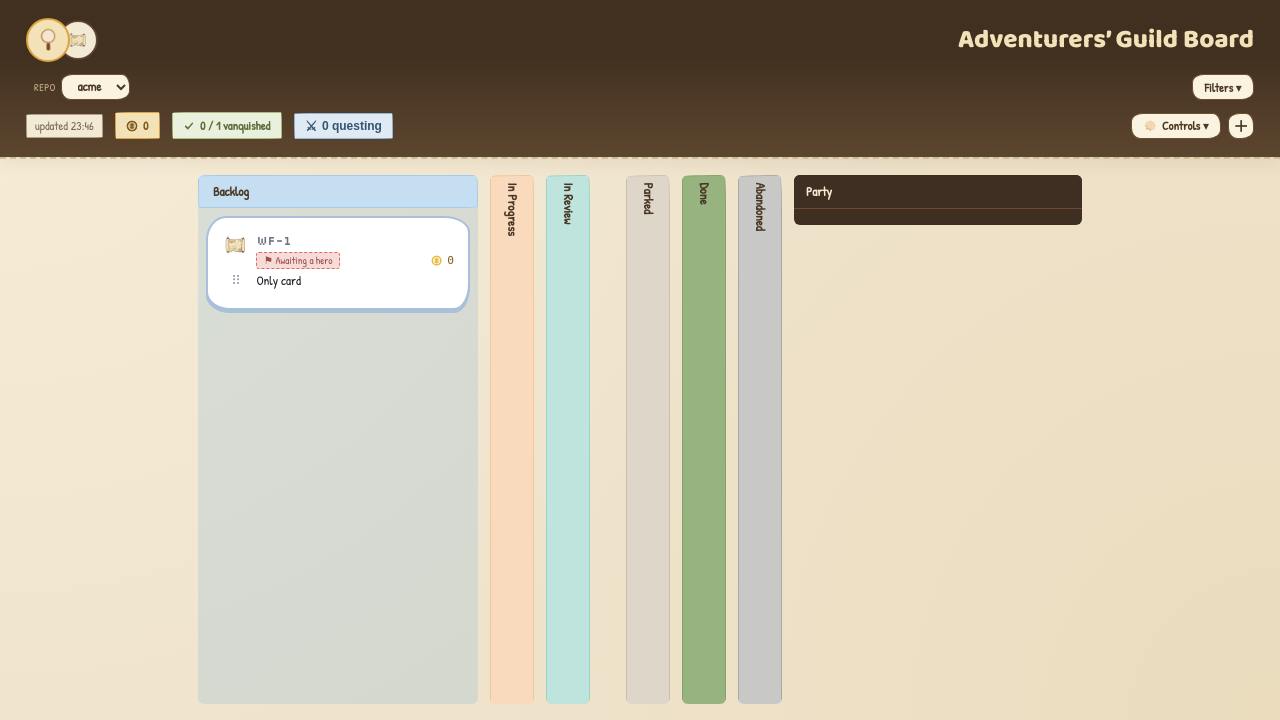
Scenario: <App/> — task 6: filter bar wiring (WF-059/060/061) › WF-095: a search that hides every card says so, and switching repo clears the filters
Check: the dropdown labelled "repo" is shown, box [61,74,130,100]
Check: the button "Only card" is shown, box [256,272,454,289]
Click the button "Filters ▾": (1223, 87) [1192,74,1254,100]
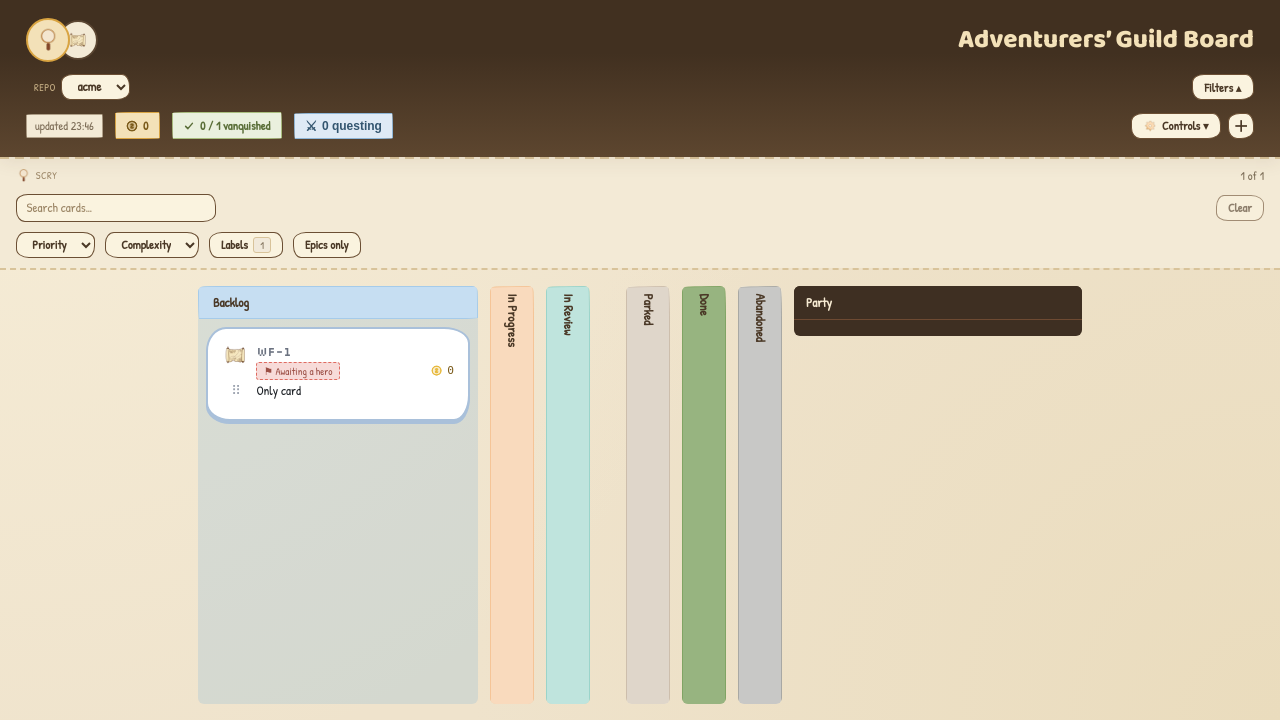
In the search field labelled "Search": (116, 208) [16,194,216,222], type "zzz"
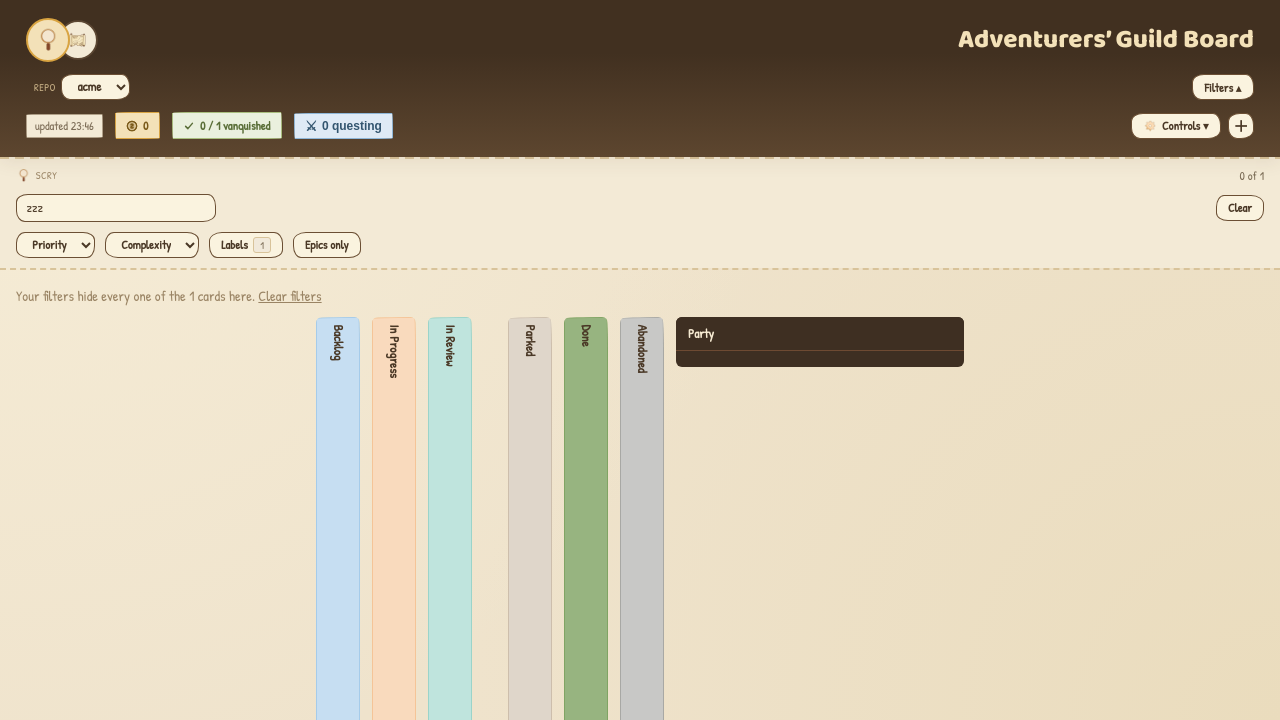
Check: the button "Only card" is gone
Select "beta" in the dropdown labelled "repo": (96, 87) [61,74,130,100]
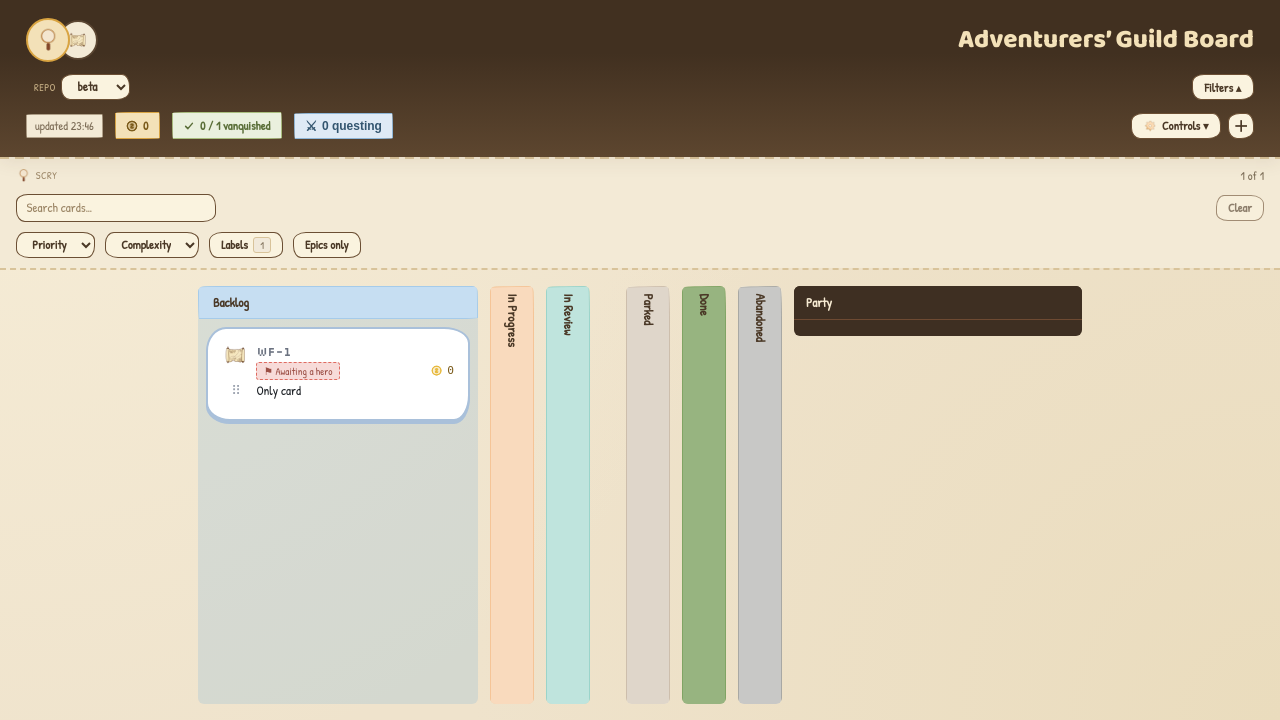
Check: the search field labelled "Search" is empty
Check: the button "Only card" is shown, box [256,382,454,399]
Check: the text "hide every one of the 1 cards" is gone
In the search field labelled "Search": (116, 208) [16,194,216,222], type "zzz"
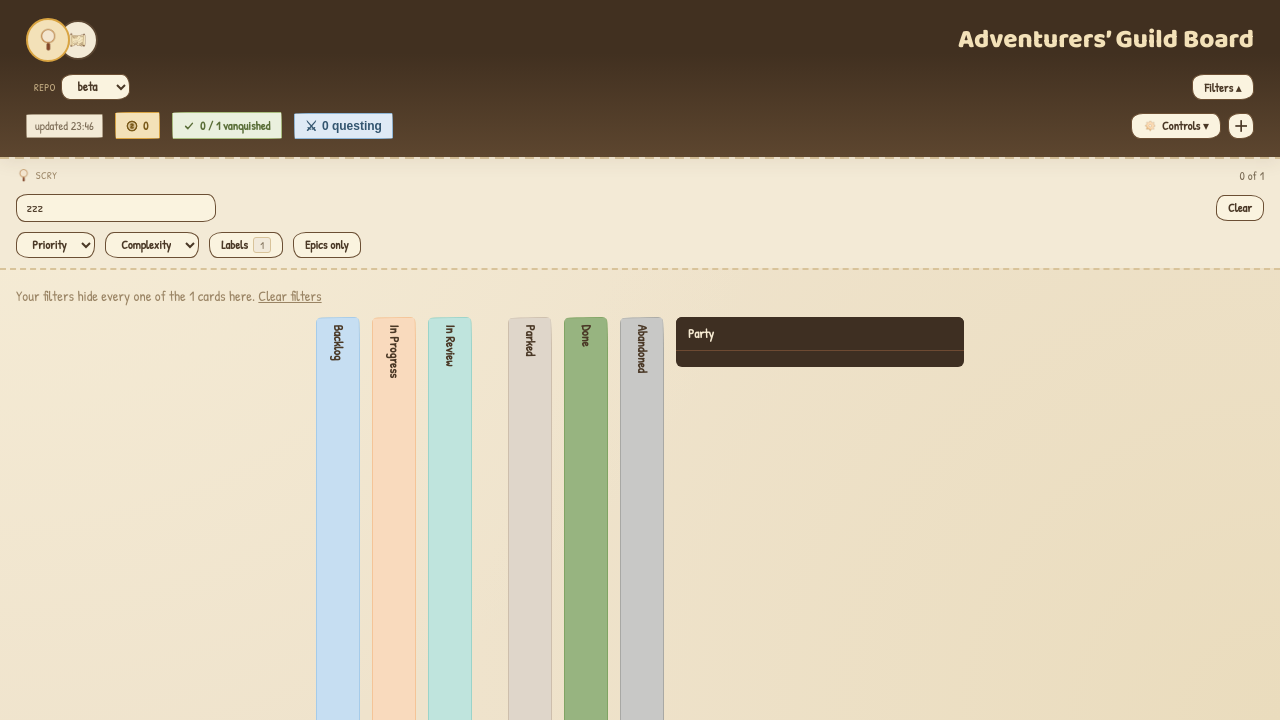
Click the button "Clear filters": (290, 295) [258,286,322,305]
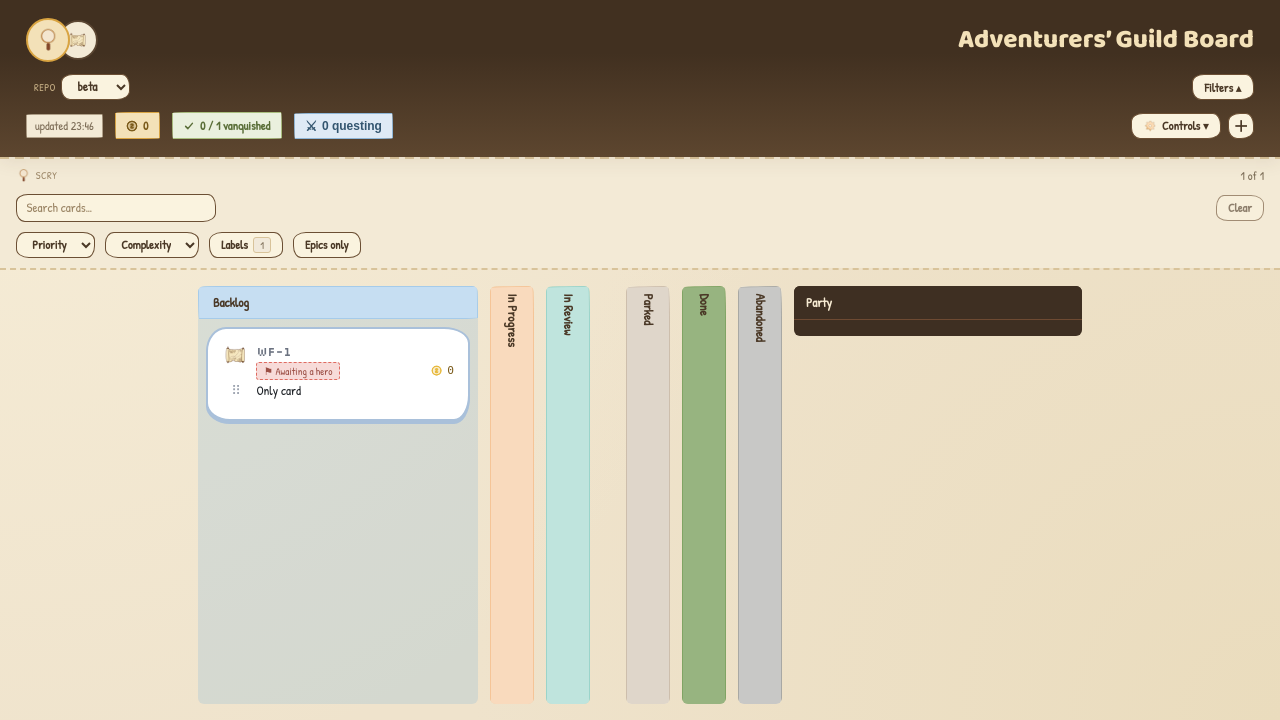
Check: the search field labelled "Search" is empty, box [16,194,216,222]
